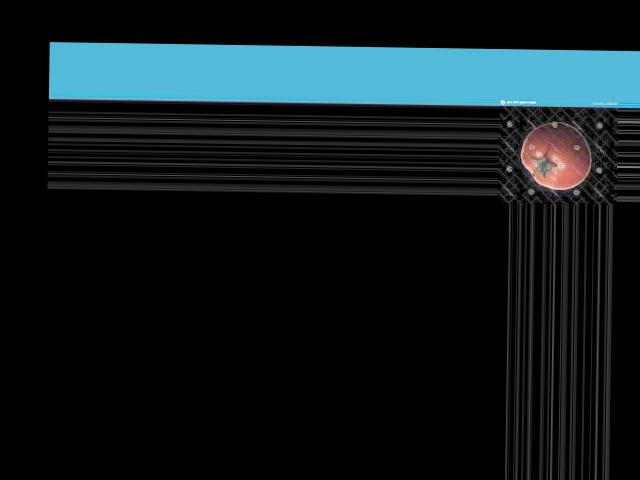tomato: (520, 121, 592, 189)
